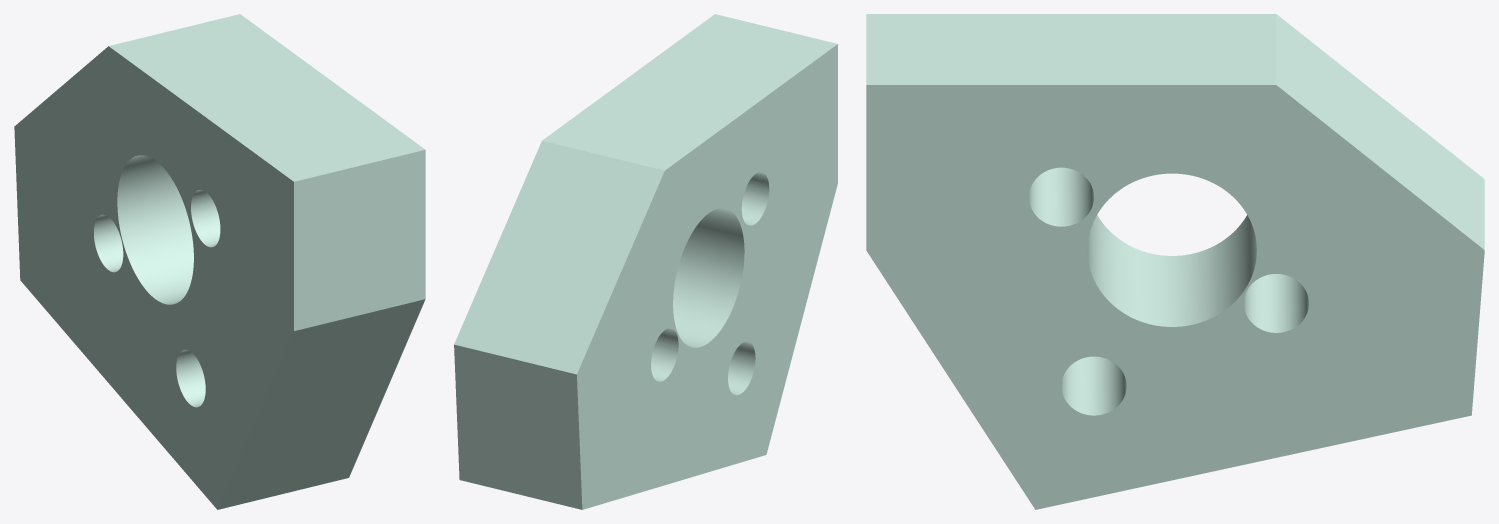
3 views of the same model, side by side, from view 1: azimuth 30°, elevation 25°; view 2: azimuth 150°, elevation 25°; view 3: azimuth 270°, elevation 25° (orthographic). The views are drawn at different scales.
Parts seen in each view (by area): view 1: Renderer Node; view 2: Renderer Node; view 3: Renderer Node.
Boxes of the visible parts, left/top/right/bottom form: Renderer Node: left=14, top=14, right=425, bottom=509; Renderer Node: left=454, top=14, right=837, bottom=509; Renderer Node: left=866, top=14, right=1484, bottom=509.
Bounding box in the file's own units: 0.1953 × 0.5447 × 0.7188.
